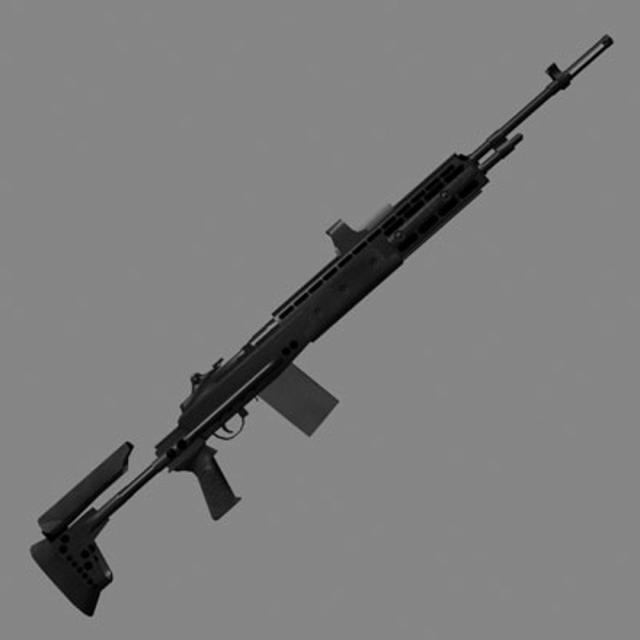Gun: (26, 24, 612, 612)
